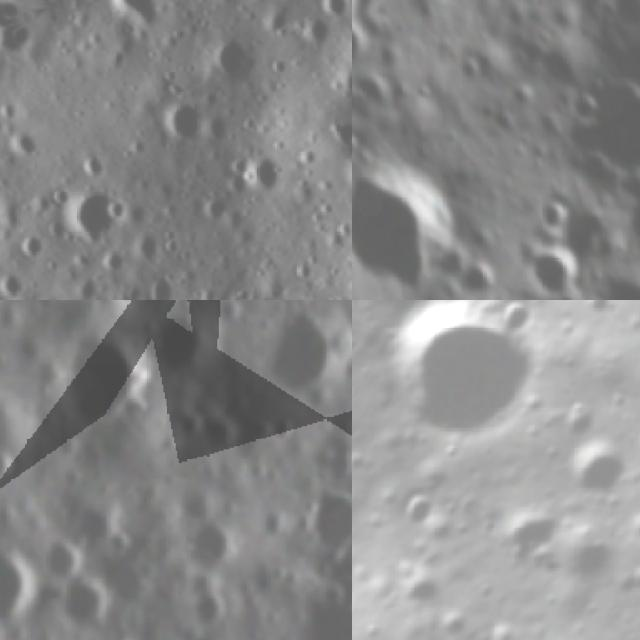crater: (352, 300, 573, 466), (352, 129, 475, 300), (50, 322, 154, 438), (256, 304, 352, 415), (138, 302, 226, 393), (483, 489, 566, 571), (551, 508, 630, 592), (56, 178, 138, 258), (507, 226, 592, 300), (55, 498, 130, 572), (563, 429, 637, 504), (296, 476, 352, 563), (175, 514, 243, 580), (90, 556, 157, 622), (0, 543, 44, 637), (155, 92, 219, 156), (204, 29, 267, 94), (55, 578, 118, 640), (98, 0, 185, 42), (172, 578, 232, 638), (324, 300, 352, 421), (395, 477, 452, 535), (526, 184, 585, 240), (37, 538, 93, 593), (192, 404, 246, 458), (245, 148, 294, 207), (614, 176, 640, 276), (294, 9, 342, 62), (587, 253, 640, 300), (0, 119, 48, 168), (456, 250, 503, 300), (255, 2, 301, 48), (12, 228, 53, 269), (0, 189, 35, 236), (615, 544, 640, 605), (0, 447, 29, 498), (604, 0, 640, 40), (352, 14, 378, 69), (139, 271, 184, 300), (102, 189, 136, 226), (329, 541, 352, 595), (0, 264, 32, 300), (135, 300, 192, 318), (336, 142, 352, 197), (0, 94, 26, 126), (318, 0, 352, 24), (178, 286, 235, 300), (109, 300, 154, 317)
